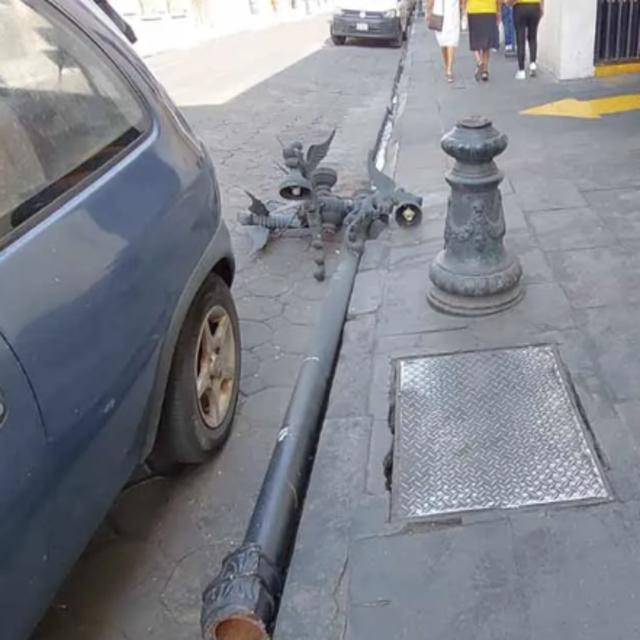Inclined Pole: (200, 136, 423, 640)
